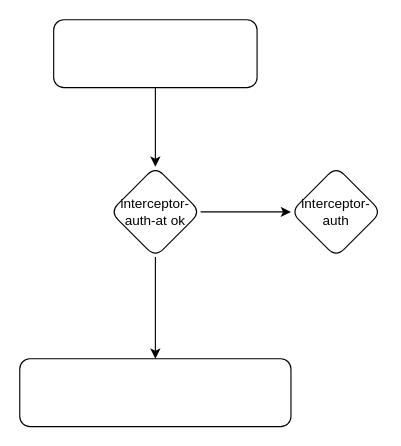
Some shapes in this 401 by 446 pixel diagram are drawn without their labels. Each missing label, with the centre of its shape:
"init request(resource,config)" belongs at (x=155, y=53).
"send request(resource,config)" belongs at (x=155, y=392).
